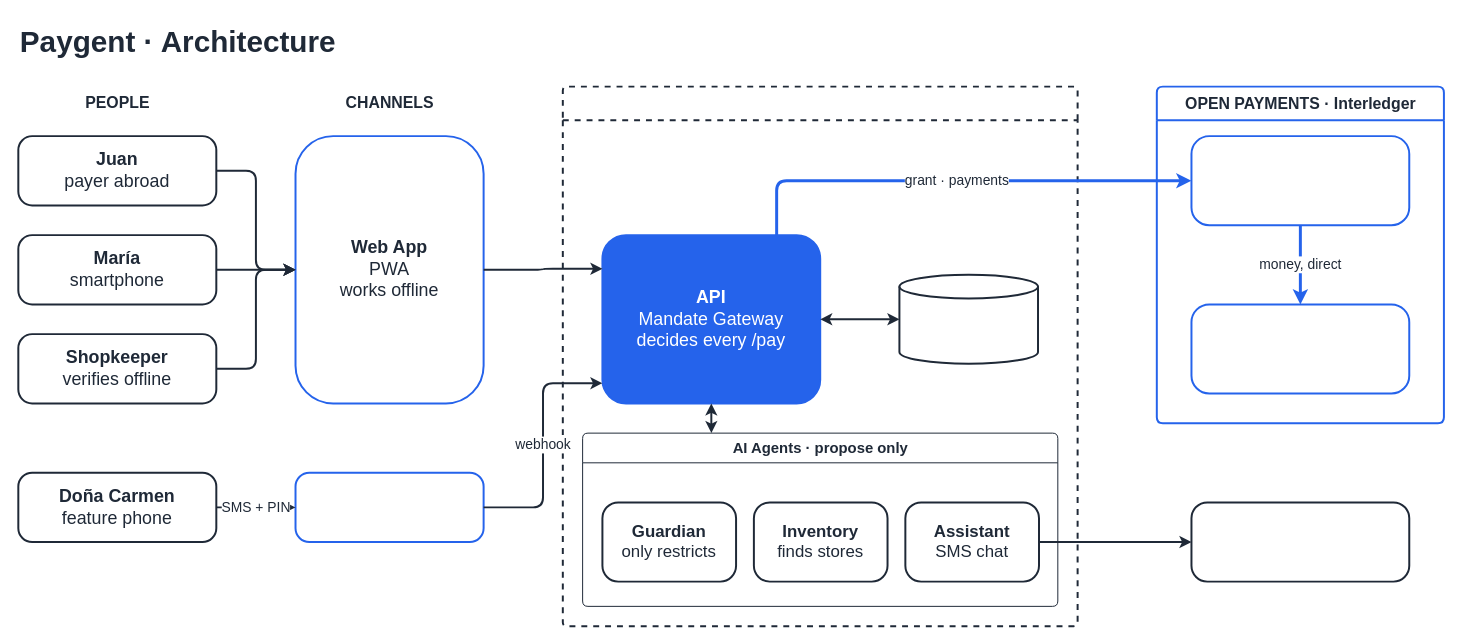
This 1461x644 diagram has some shape labels left out. The box of each missing label's shape, as (x1, y1, x2, y2) in pixels:
Claude LLM understands text: (1190, 501, 1410, 582)
Juan's Wallet + auth server: (1190, 135, 1410, 226)
Merchant Wallets shop · pharmacy: (1190, 303, 1410, 394)
PAYGENT · on Railway: (561, 85, 1078, 627)
Postgres: (898, 273, 1039, 364)
SMS Gateway Android phone: (294, 471, 484, 543)
